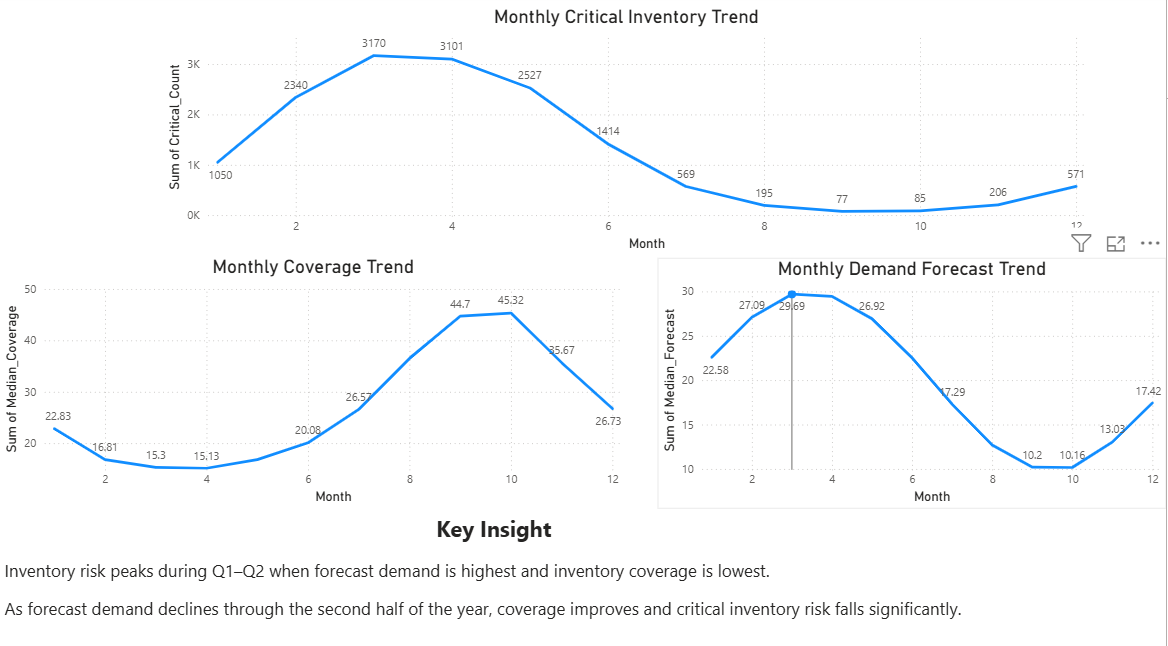

What the dashboard file says about the page in this screenshot:
{"tool":"powerbi","page":{"name":"Trend Analysis","canvas":[1280,720],"ordinal":3},"visuals":[{"type":"lineChart","title":"Monthly Critical Inventory Trend","fields":{"Category":["monthly_trend_summary.Month"],"Y":["Sum(monthly_trend_summary.Critical_Count)"]},"box":[178.4,12.3,1018.2,274.4],"z":0},{"type":"lineChart","title":"Monthly Coverage Trend","fields":{"Category":["monthly_trend_summary.Month"],"Y":["Sum(monthly_trend_summary.Median_Coverage)"]},"box":[0,286.8,687.5,278.6],"z":1},{"type":"lineChart","title":"Monthly Demand Forecast Trend","fields":{"Category":["monthly_trend_summary.Month"],"Y":["Sum(monthly_trend_summary.Median_Forecast)"]},"box":[721.8,289.5,558.5,275.8],"z":2},{"type":"textbox","box":[0,565.4,1084.1,155.1],"z":3}]}

Visuals, with their boxes in screenshot pixels (x1, y1, x2, y2), scaled from the page's 1280x720 canvas onto the 1168x646 screenshot:
"Monthly Critical Inventory Trend" lineChart: rect(163, 11, 1092, 257)
"Monthly Coverage Trend" lineChart: rect(0, 257, 627, 507)
"Monthly Demand Forecast Trend" lineChart: rect(659, 260, 1167, 507)
textbox: rect(0, 507, 989, 645)
